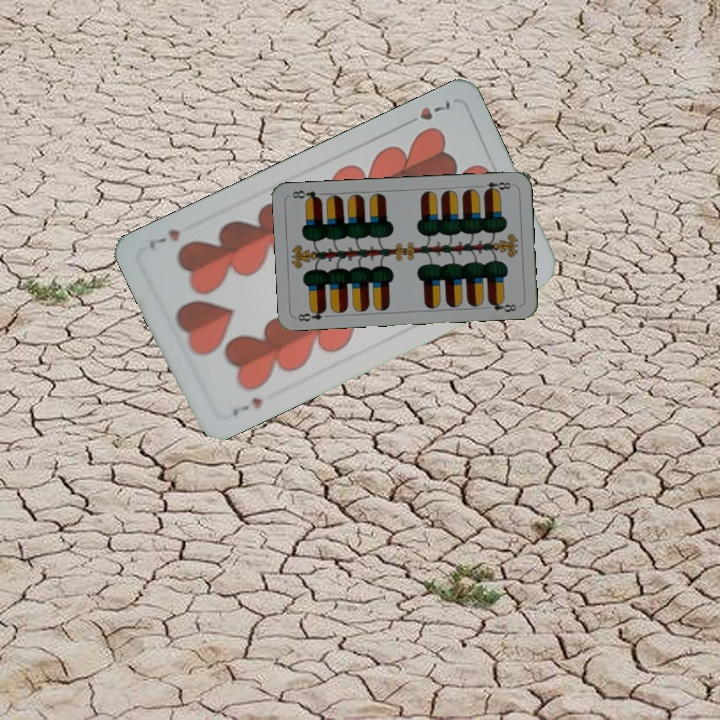E8: (293, 305, 329, 324), (480, 178, 515, 195)
H7: (400, 95, 453, 129), (228, 393, 265, 419)
